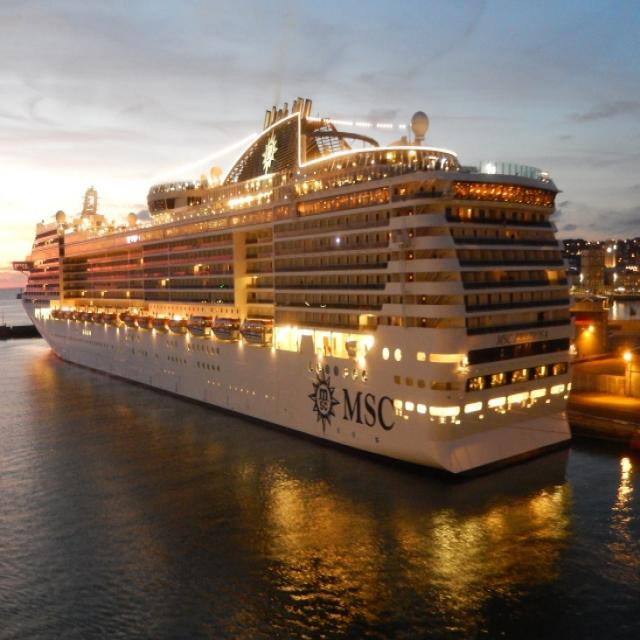cruises: (13, 95, 578, 485)
